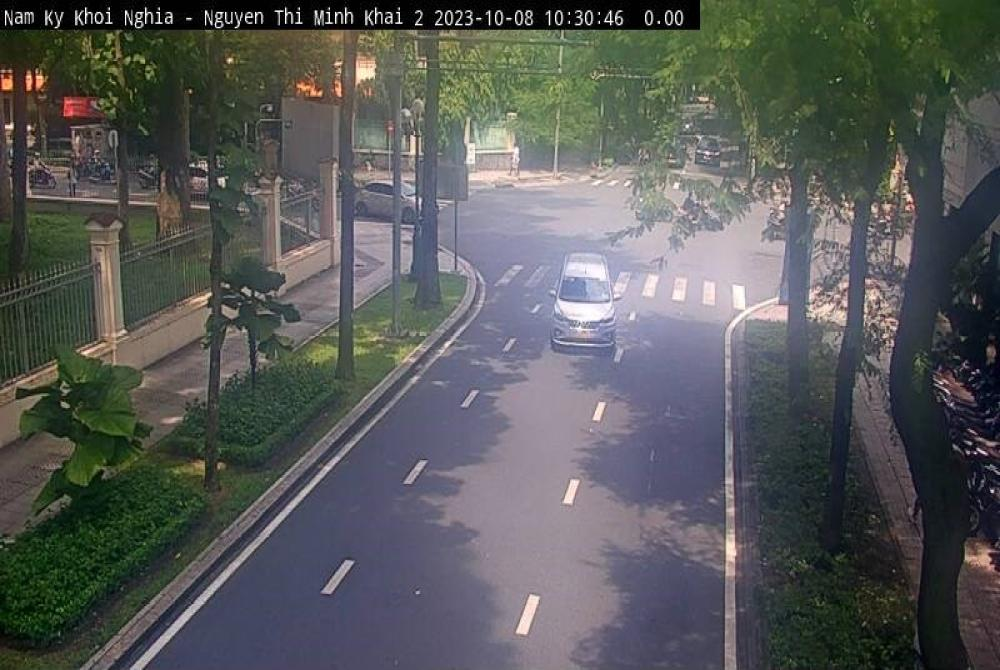car: (551, 252, 619, 358), (349, 178, 442, 226)
